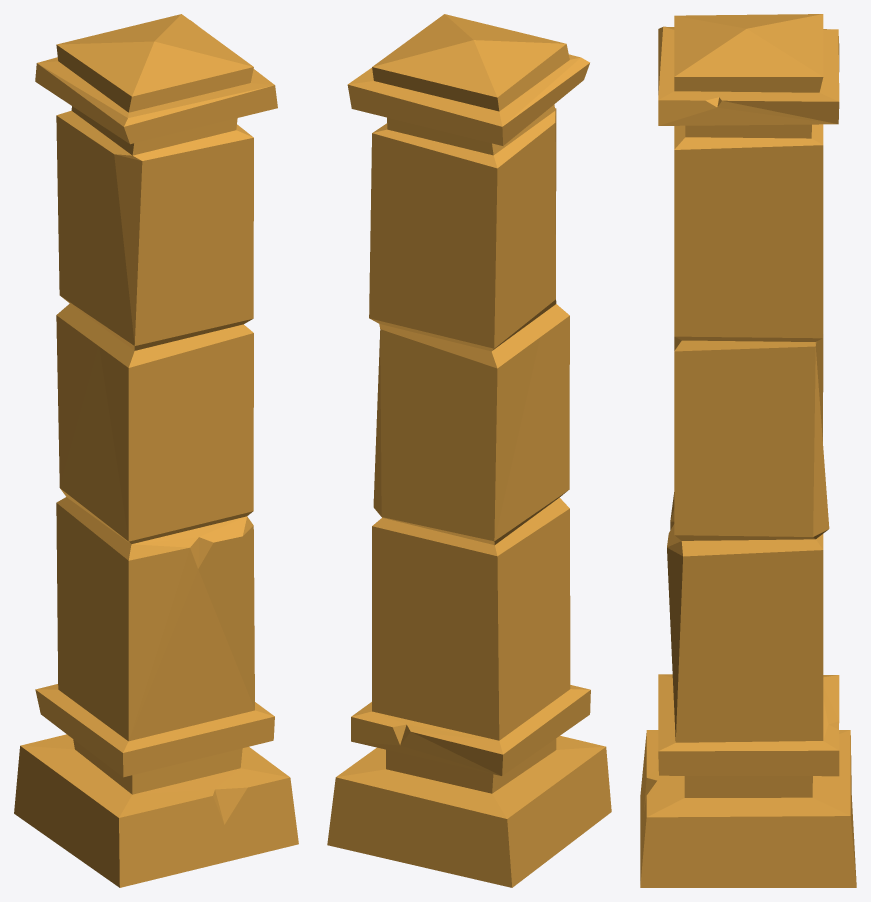
File: wall-graveyard-pillar.fbx
The picture shows the model from 3 angles, left to right: view 1: azimuth 30°, elevation 25°; view 2: azimuth 150°, elevation 25°; view 3: azimuth 270°, elevation 25°; orthographic projection. The views are drawn at different scales.
Parts seen in each view (by area): view 1: wall-graveyard-pillar; view 2: wall-graveyard-pillar; view 3: wall-graveyard-pillar.
Part boxes in pixels (bbox=[...]): wall-graveyard-pillar: bbox=[14, 14, 298, 887]; wall-graveyard-pillar: bbox=[327, 14, 611, 887]; wall-graveyard-pillar: bbox=[640, 14, 856, 887].
Size of the model in its own units: 0.3459 by 1.43 by 0.345.
